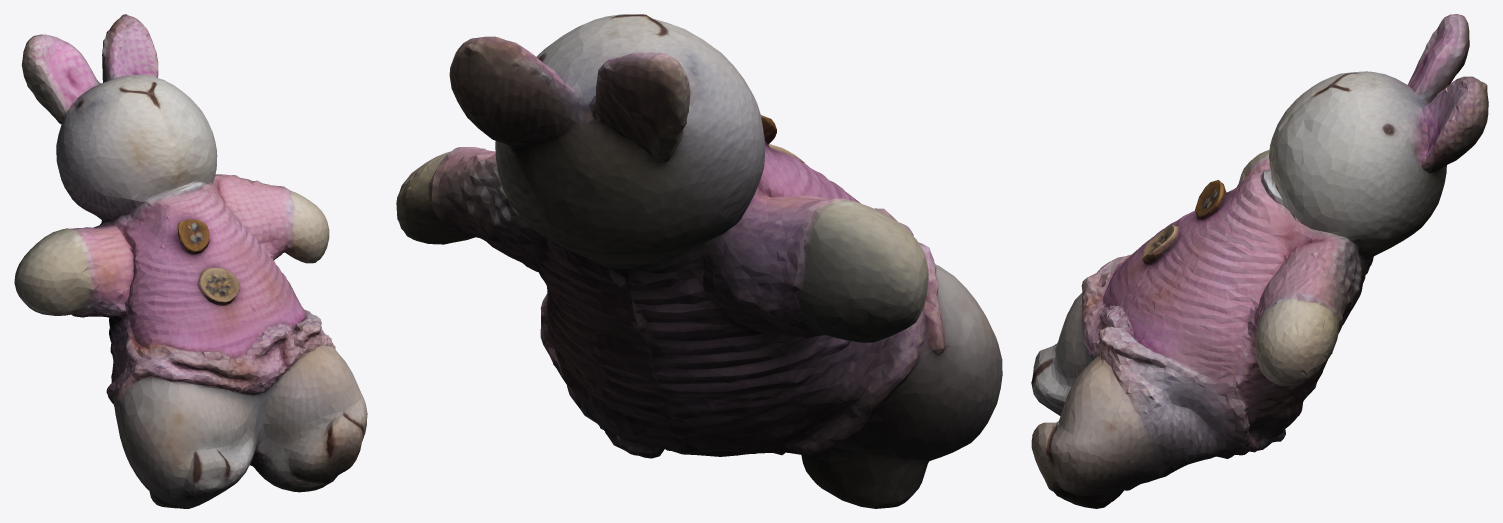
Rendered from 30000_fix-v1.glb.
The picture shows the model from 3 angles, left to right: view 1: azimuth 30°, elevation 25°; view 2: azimuth 150°, elevation 25°; view 3: azimuth 270°, elevation 25°; orthographic projection. The views are drawn at different scales.
Visible parts, largest first — view 1: geometry_0; view 2: geometry_0; view 3: geometry_0.
Part boxes in pixels (x1,y1,x2,y2): geometry_0: (14, 14, 367, 508); geometry_0: (396, 14, 1002, 508); geometry_0: (1031, 14, 1488, 508).
Bounding box in the file's own units: 0.7387 × 0.8415 × 0.8106.
Materials: 1 (1 with a texture image).
